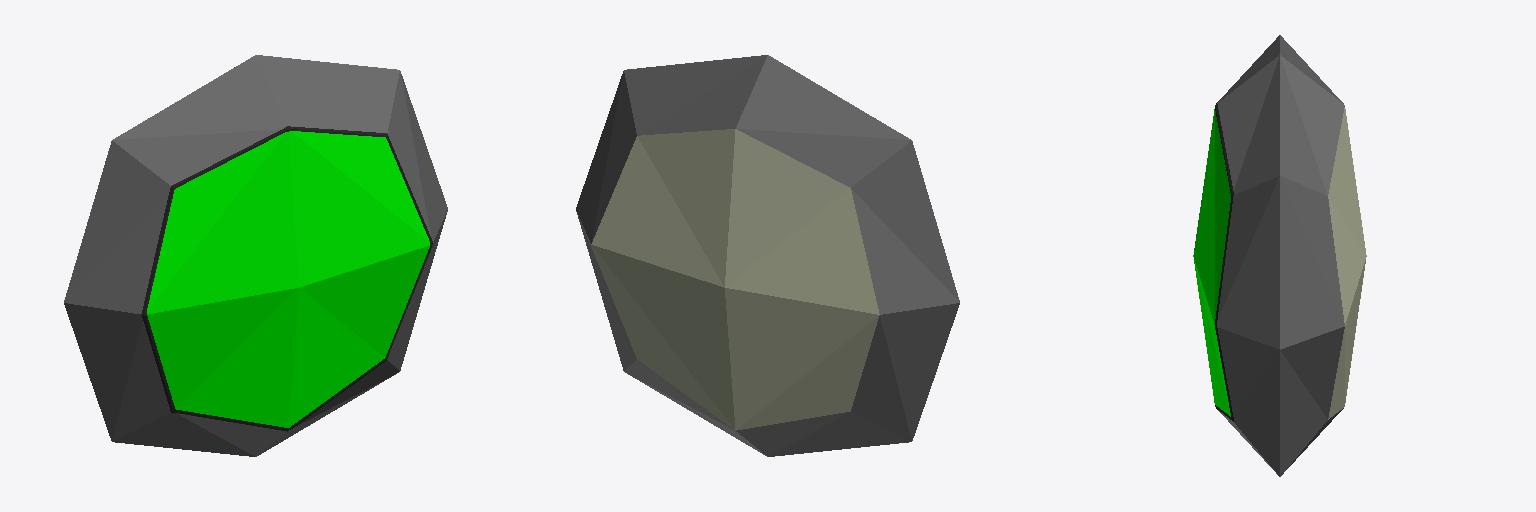
The picture shows the model from 3 angles: view 1: azimuth 30°, elevation 25°; view 2: azimuth 150°, elevation 25°; view 3: azimuth 270°, elevation 25°; orthographic projection.
Parts seen in each view (by area): view 1: switch2; view 2: switch2; view 3: switch2.
Boxes of the visible parts, <box> form: switch2: <box>64,55,447,456</box>; switch2: <box>576,55,959,456</box>; switch2: <box>1193,35,1366,476</box>.
Size of the model in its own units: 0.3011 by 0.3011 by 0.1174.
2 materials, 1 textured.